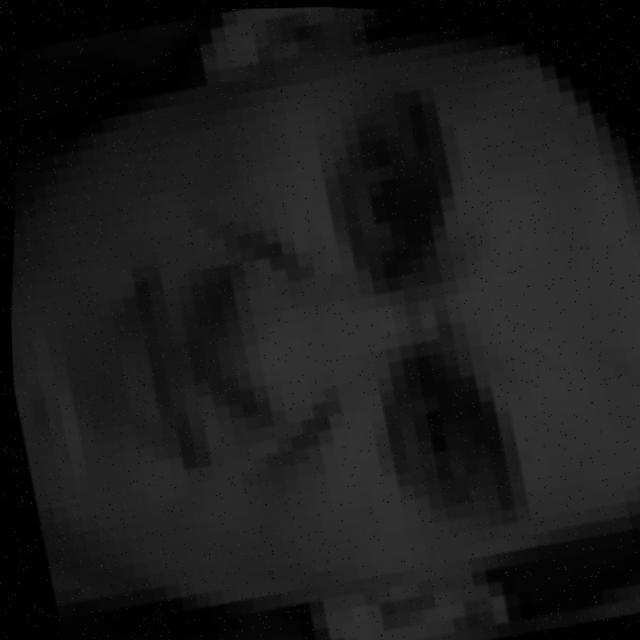Disgust: (46, 52, 634, 592)
